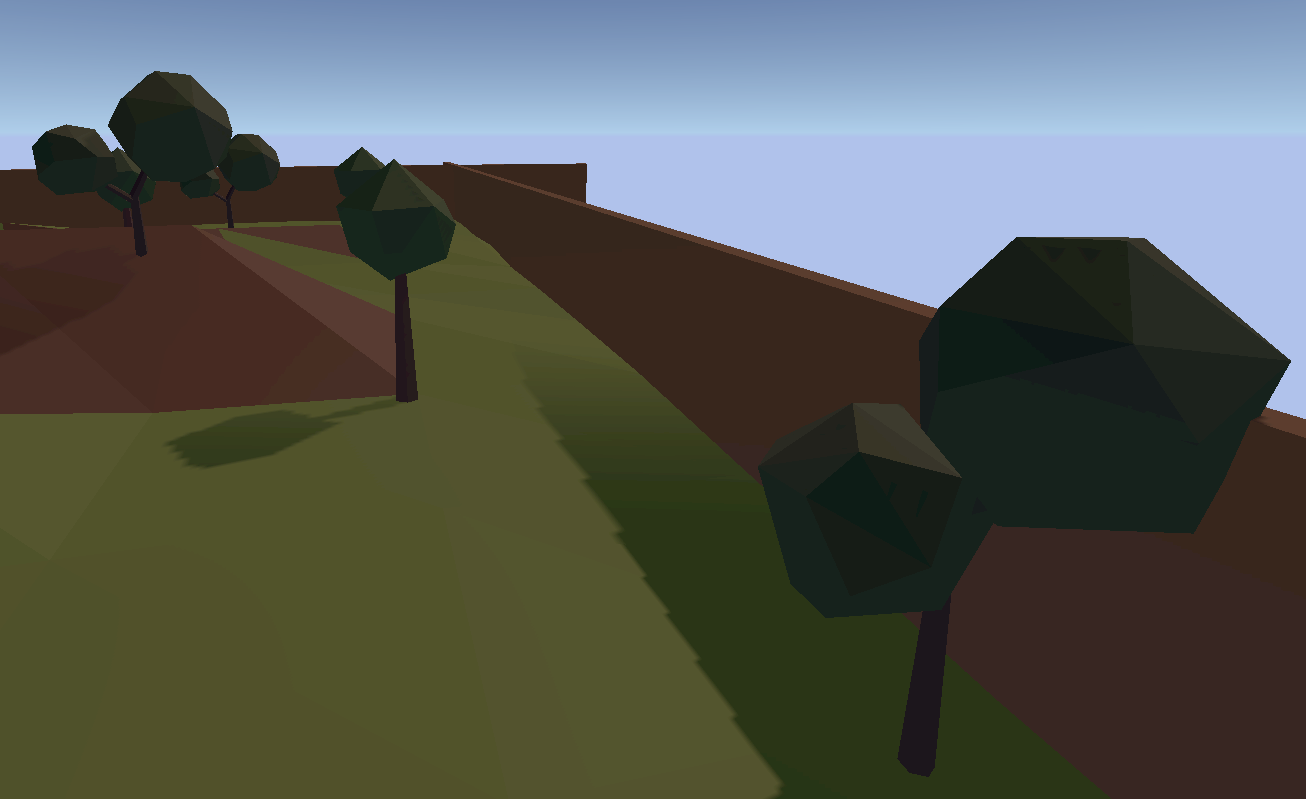tree: (755, 233, 1292, 771), (332, 158, 458, 405), (30, 70, 230, 220), (178, 127, 282, 228), (332, 148, 389, 199)
